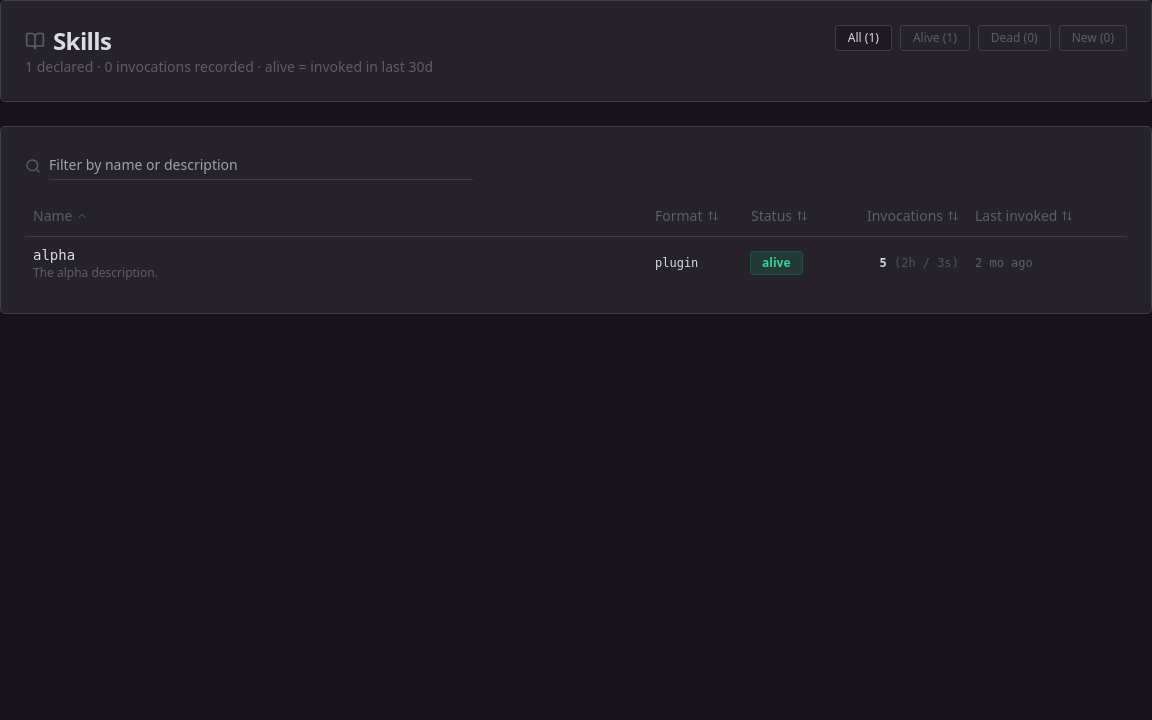
it: SkillsPage › clicking a row expands the description detail
The image size is (1152, 720).
Click the row with test id "skill-row-alpha": (54, 254) [25, 236, 1127, 288]
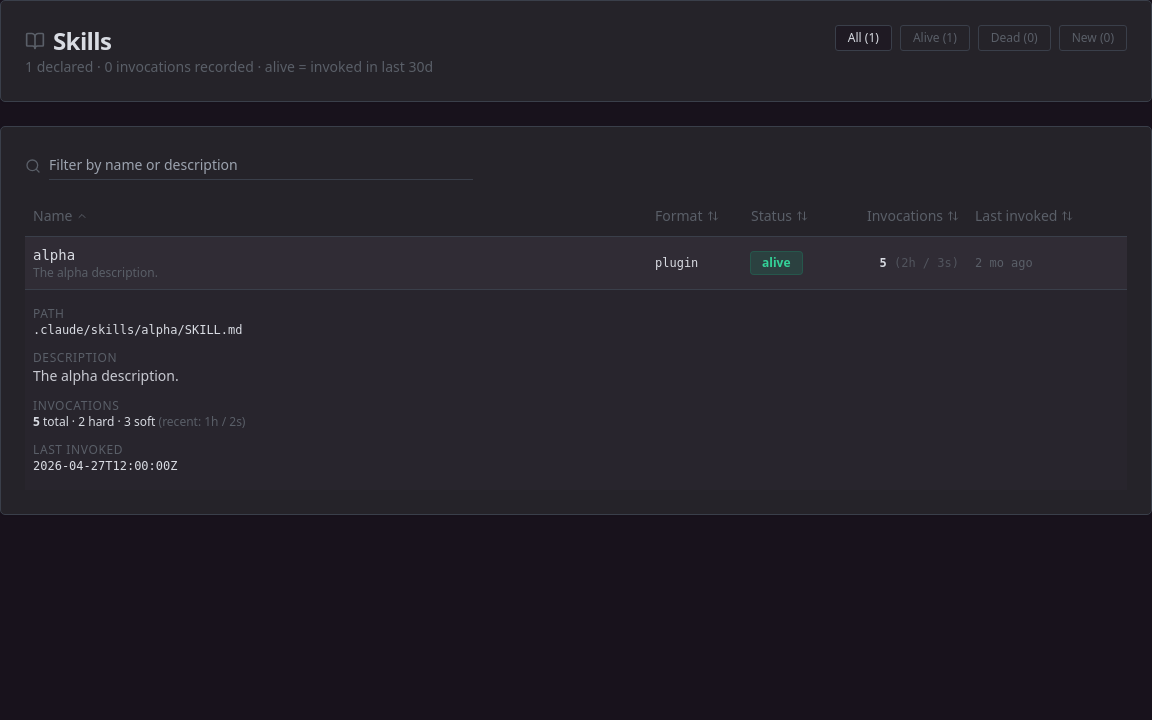
expect the text "The alpha description." below ".claude/skills/alpha/SKILL.md" is shown: met, box [33, 366, 179, 384]
expect the text ".claude/skills/alpha/SKILL.md" is shown: met, box [33, 322, 242, 336]
